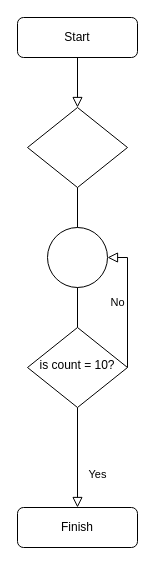
This 155x565 diagram has some shape labels left out. The centre of each missing label's shape, as x and y in pixels:
count = 0: (x=77, y=147)
perform task count ++: (x=77, y=257)
